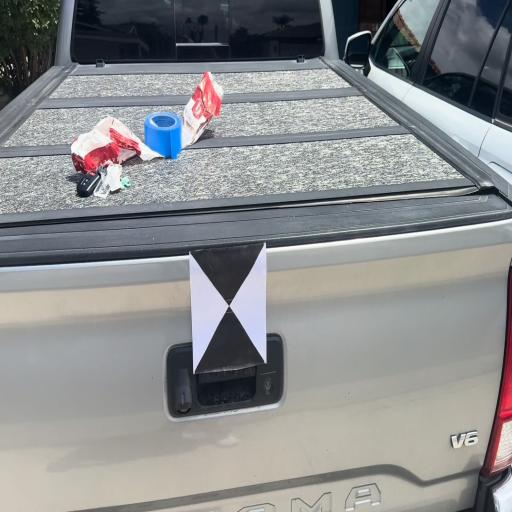target: (190, 244, 266, 373)
